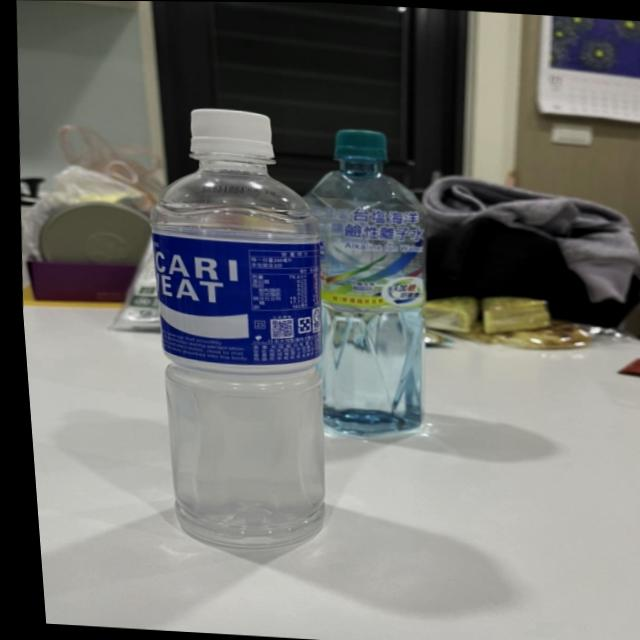anorganik: (127, 84, 347, 548)
